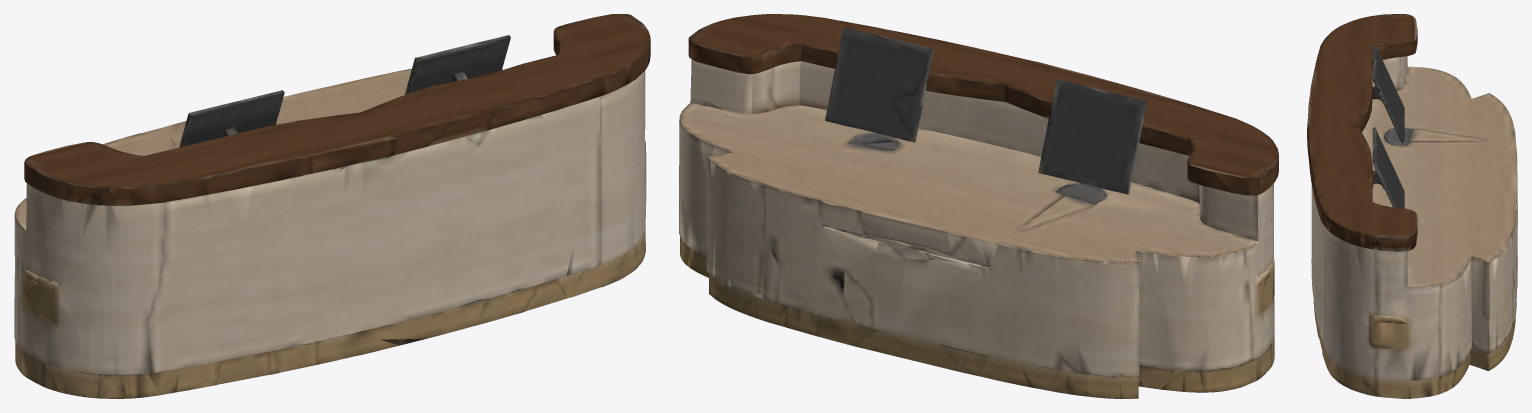
The model's file is term_checkin.glb.
The picture shows the model from 3 angles, left to right: view 1: azimuth 30°, elevation 25°; view 2: azimuth 150°, elevation 25°; view 3: azimuth 270°, elevation 25°; orthographic projection. The views are drawn at different scales.
Parts seen in each view (by area): view 1: LO; view 2: LO; view 3: LO.
Boxes of the visible parts, <box> form: LO: <box>14,14,650,398</box>; LO: <box>679,14,1278,398</box>; LO: <box>1307,14,1517,398</box>.
Bounding box in the file's own units: 3.27 × 1.25 × 1.3.
1 material, 1 textured.
